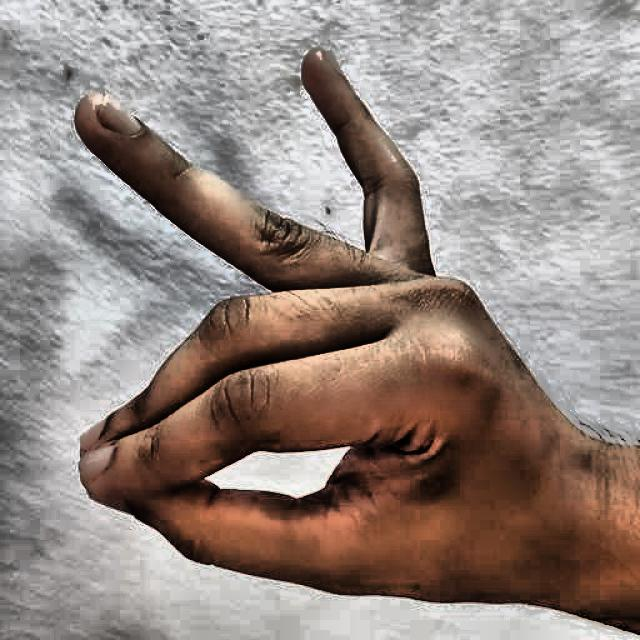Na: (43, 23, 577, 630)
